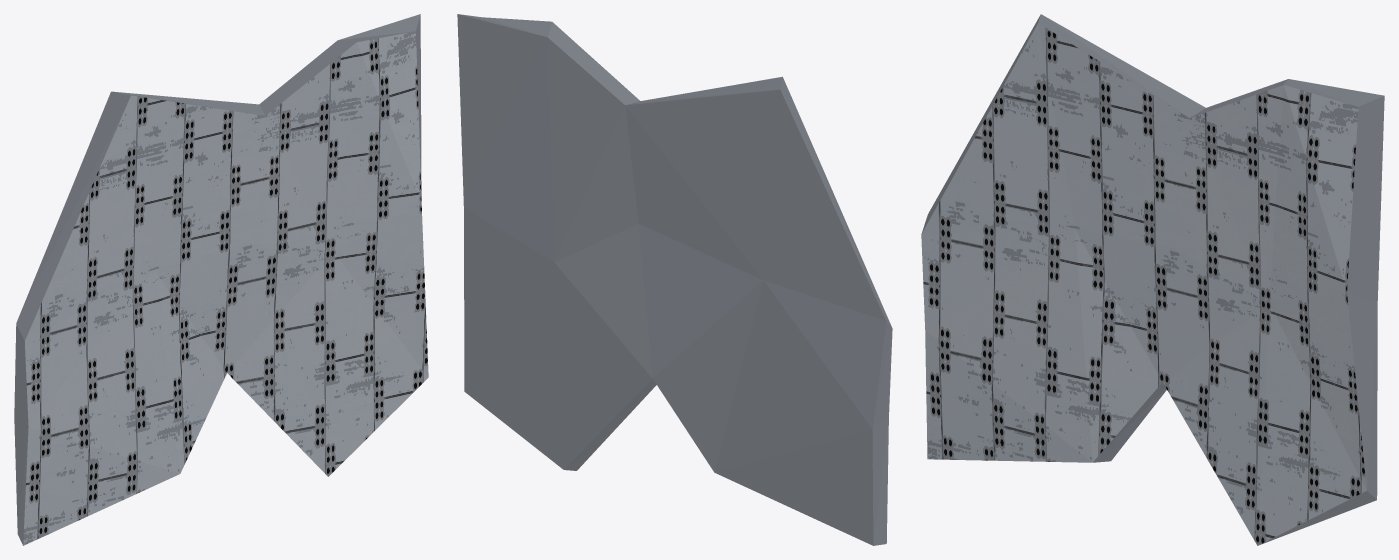
The model's file is plat6.glb.
3 renders of one model, left to right at view 1: azimuth 30°, elevation 25°; view 2: azimuth 150°, elevation 25°; view 3: azimuth 330°, elevation 25°, orthographic. The views are drawn at different scales.
Visible parts, largest first — view 1: Solar_small_broken_1; view 2: Solar_small_broken_1; view 3: Solar_small_broken_1.
Boxes of the visible parts, x1,y1,x2,y2 form: Solar_small_broken_1: [14, 14, 428, 545]; Solar_small_broken_1: [457, 14, 892, 545]; Solar_small_broken_1: [921, 14, 1384, 545].
Size of the model in its own units: 2.33 by 2.34 by 0.2022.
Materials: 1 (1 with a texture image).
